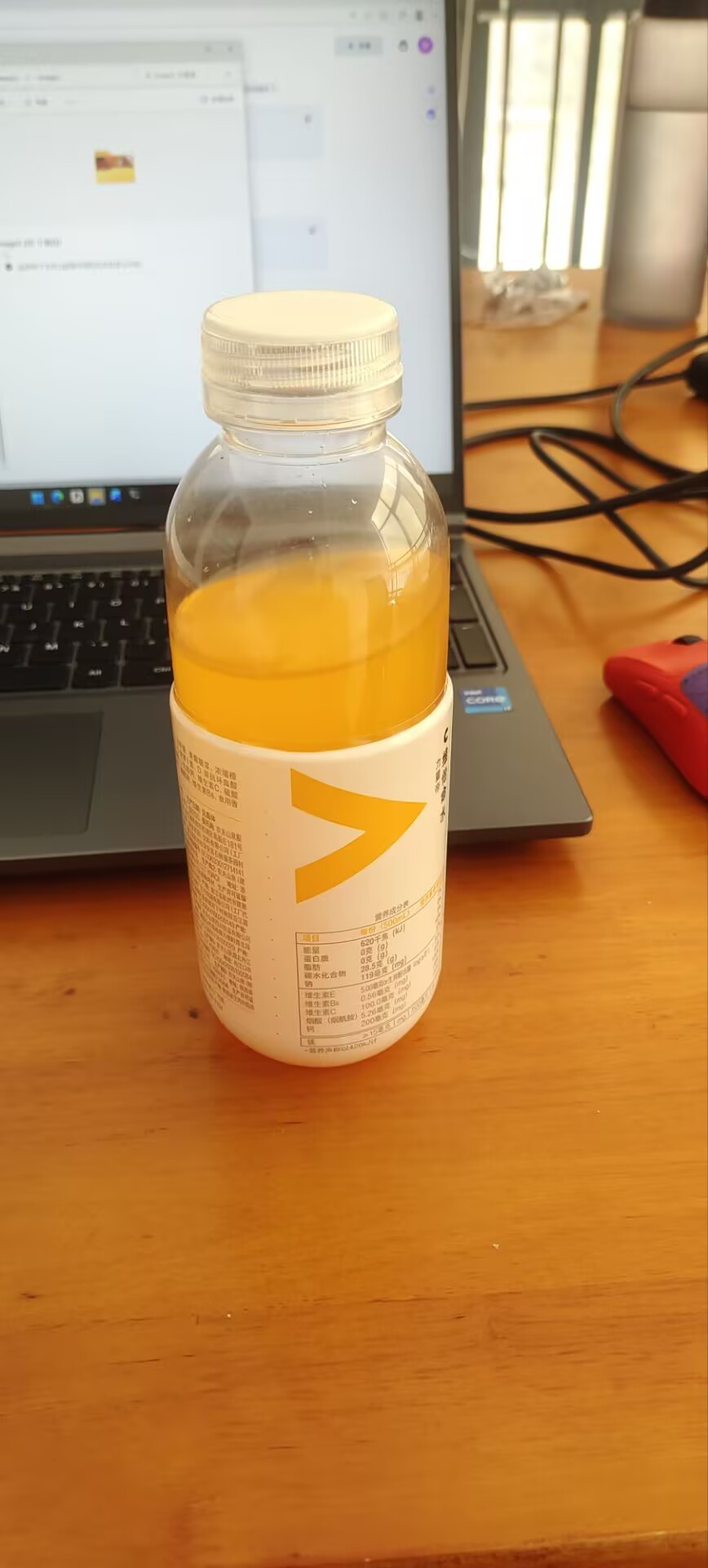redbull: (142, 288, 486, 1089)
